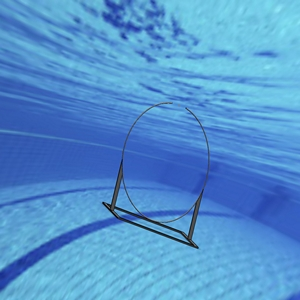circle: (102, 97, 212, 250)
